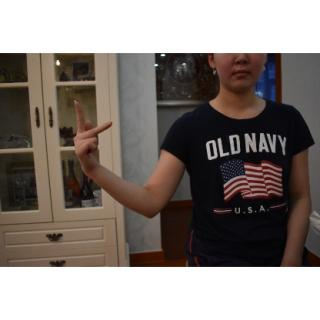DHAA: (71, 96, 119, 182)
